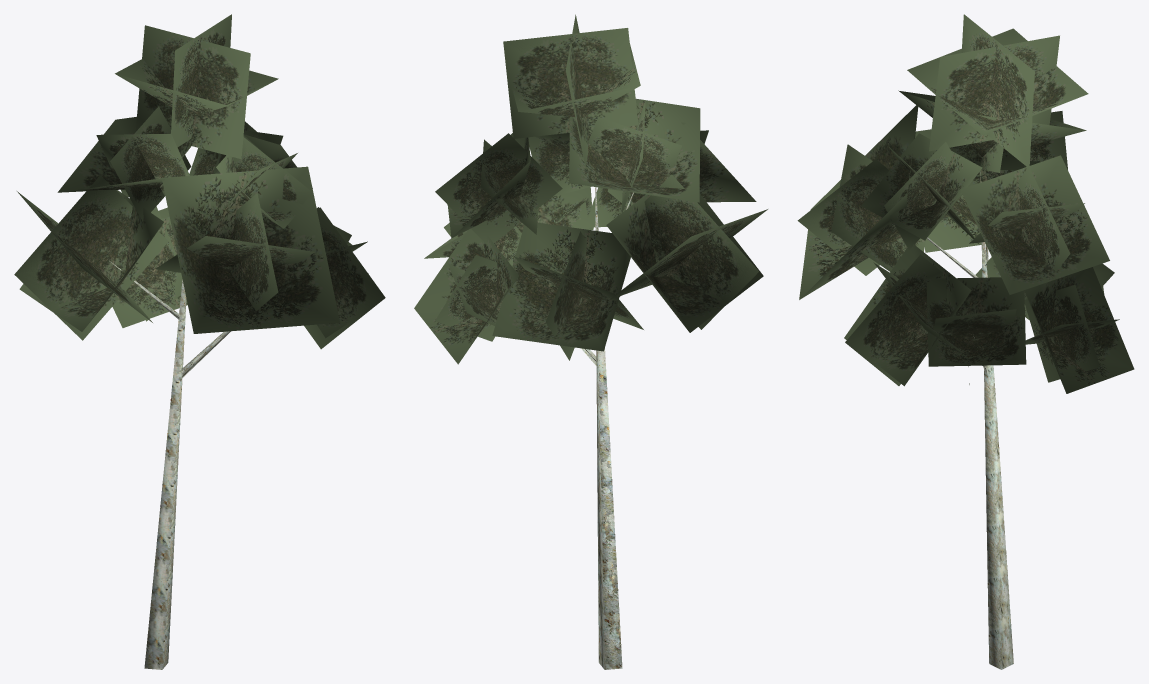
The model's file is ever_eucalyptus_short_l3.fbx.
3 renders of one model, left to right at view 1: azimuth 30°, elevation 25°; view 2: azimuth 150°, elevation 25°; view 3: azimuth 270°, elevation 25°, orthographic. The views are drawn at different scales.
Visible parts, largest first — view 1: mesh_node; view 2: mesh_node; view 3: mesh_node.
Boxes of the visible parts, left/top/right/bottom form: mesh_node: left=14, top=14, right=385, bottom=669; mesh_node: left=414, top=14, right=767, bottom=669; mesh_node: left=797, top=14, right=1134, bottom=669.
Size of the model in its own units: 10.61 by 19.32 by 9.07.
